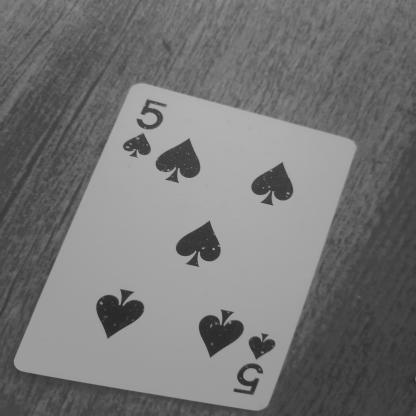5S: (226, 324, 285, 404), (115, 95, 176, 170)
